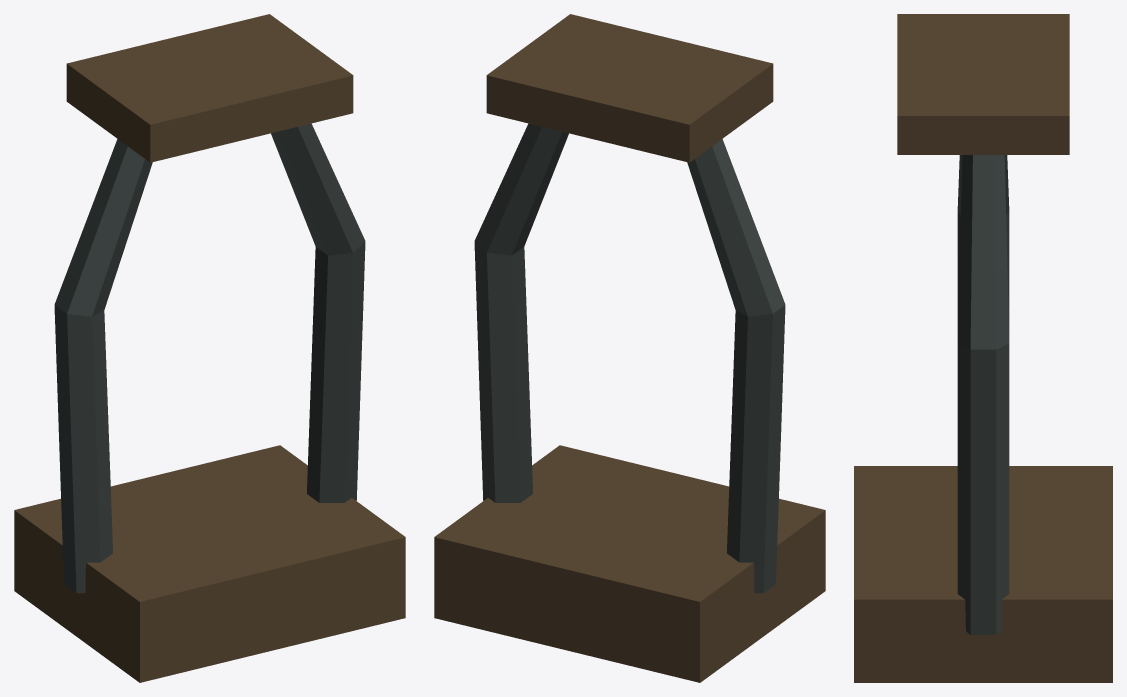
The model's file is strange_lamp.glb.
The picture shows the model from 3 angles, left to right: view 1: azimuth 30°, elevation 25°; view 2: azimuth 150°, elevation 25°; view 3: azimuth 270°, elevation 25°; orthographic projection. The views are drawn at different scales.
Parts seen in each view (by area): view 1: strange_lamp; view 2: strange_lamp; view 3: strange_lamp.
Part boxes in pixels (<box>): strange_lamp: <box>14,14,405,682</box>; strange_lamp: <box>434,14,825,682</box>; strange_lamp: <box>854,14,1112,682</box>.
Size of the model in its own units: 0.6172 by 1.06 by 0.45.
